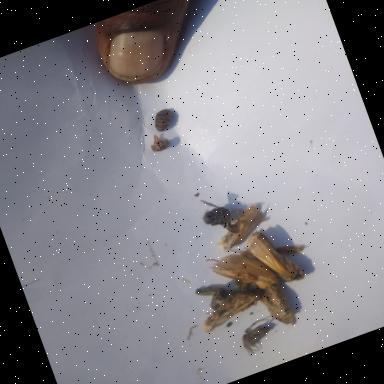abw: (200, 234, 284, 313), (241, 220, 308, 296), (204, 198, 278, 256)
